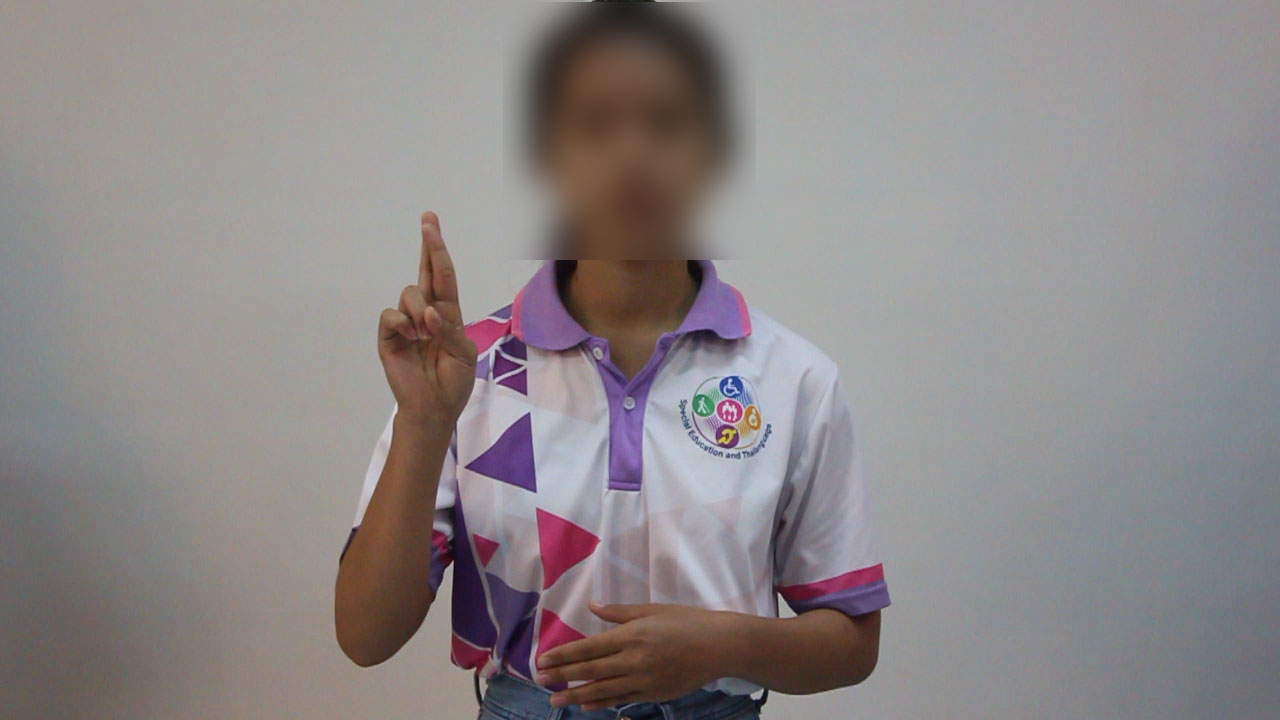rao: (360, 203, 494, 447)
